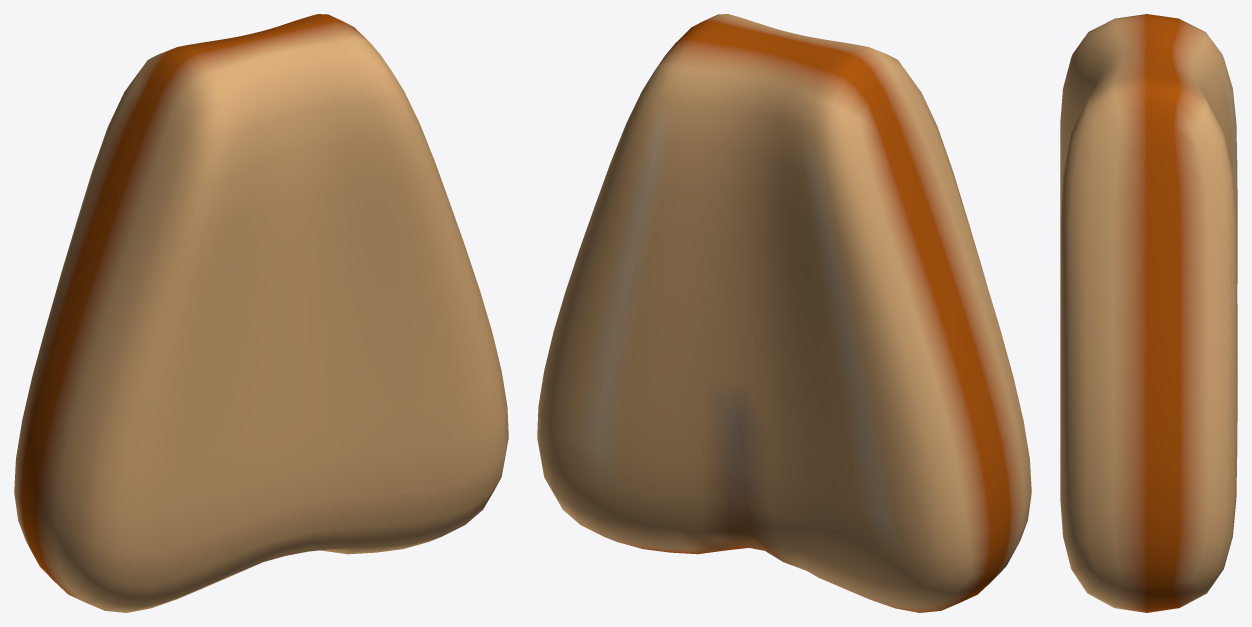
File: Enemy Puffer Right Fin.fbx
The picture shows the model from 3 angles, left to right: view 1: azimuth 30°, elevation 25°; view 2: azimuth 150°, elevation 25°; view 3: azimuth 270°, elevation 25°; orthographic projection. The views are drawn at different scales.
Visible parts, largest first — view 1: polySurface99; view 2: polySurface99; view 3: polySurface99.
Part boxes in pixels (x1,y1,x2,y2): polySurface99: (14, 14, 508, 612); polySurface99: (537, 14, 1031, 612); polySurface99: (1060, 14, 1237, 612).
Size of the model in its own units: 37.12 by 42.11 by 13.62.
